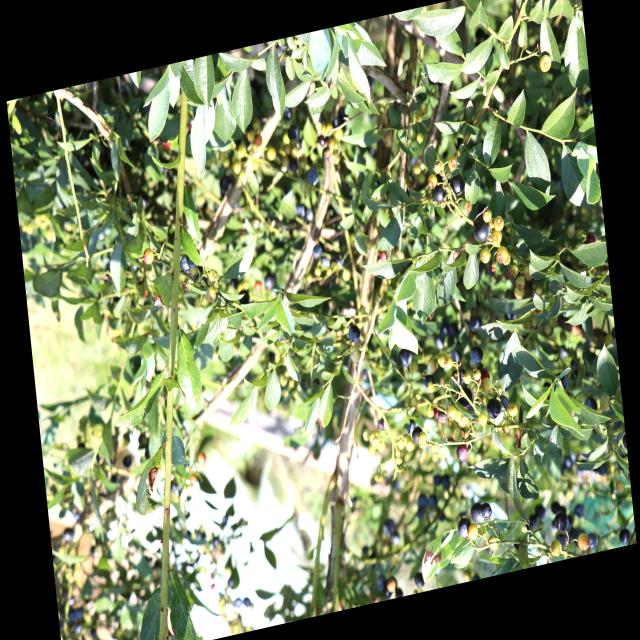blueberry: (473, 218, 492, 245), (550, 371, 570, 394), (469, 500, 487, 525), (485, 396, 503, 421), (448, 174, 466, 199), (456, 387, 474, 409), (553, 510, 570, 533), (457, 516, 472, 540), (398, 347, 414, 369), (432, 184, 448, 206), (431, 170, 448, 190), (186, 247, 202, 268), (178, 254, 192, 276), (618, 524, 632, 546), (470, 345, 484, 366), (348, 323, 362, 344), (306, 167, 320, 188), (411, 424, 424, 446), (584, 395, 599, 413), (423, 373, 436, 392), (264, 271, 276, 291), (449, 348, 462, 366), (482, 500, 493, 521), (288, 124, 300, 143), (499, 394, 510, 414), (451, 368, 463, 385), (312, 243, 324, 260), (288, 158, 299, 172), (320, 257, 329, 271)
blueberry-halfripe: (476, 368, 491, 386), (456, 443, 469, 463), (142, 246, 154, 266), (254, 280, 263, 292)
blueberry-unripe: (204, 283, 218, 304), (489, 228, 504, 246), (495, 245, 509, 264), (476, 410, 489, 430), (417, 430, 429, 450), (493, 213, 505, 232), (451, 424, 462, 444), (446, 404, 458, 422), (481, 376, 493, 394), (437, 352, 449, 370), (479, 247, 491, 265), (446, 154, 458, 172), (458, 414, 470, 431), (513, 286, 526, 301), (508, 262, 519, 279), (427, 172, 438, 189), (471, 367, 482, 383), (507, 402, 518, 418), (482, 208, 493, 224), (430, 438, 441, 453), (514, 276, 525, 291), (207, 268, 218, 283), (433, 160, 443, 176), (462, 370, 472, 385), (500, 422, 510, 437), (462, 200, 473, 213), (445, 356, 453, 370), (454, 410, 463, 422), (513, 426, 521, 439)
